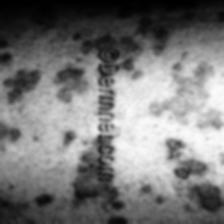Non-Cancerous Skin Condition: (0, 0, 92, 220), (146, 0, 224, 224), (104, 0, 134, 32), (102, 206, 136, 224)
